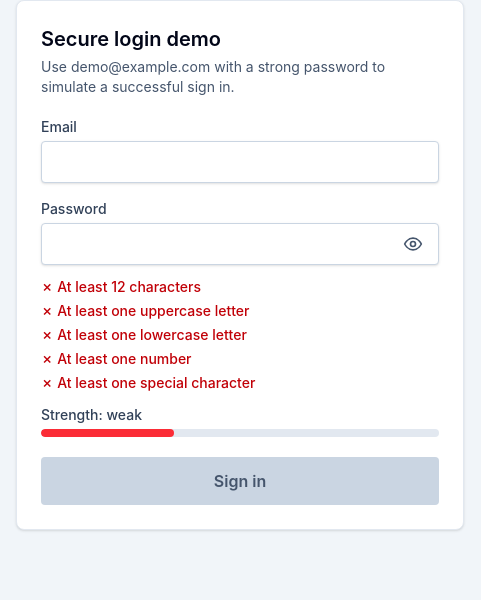
Test case: LoginDemo › shows a success message when signing in with the demo email
Type "demo@example.com" into the field labelled "Email" at [240, 162], box [41,141,439,183]
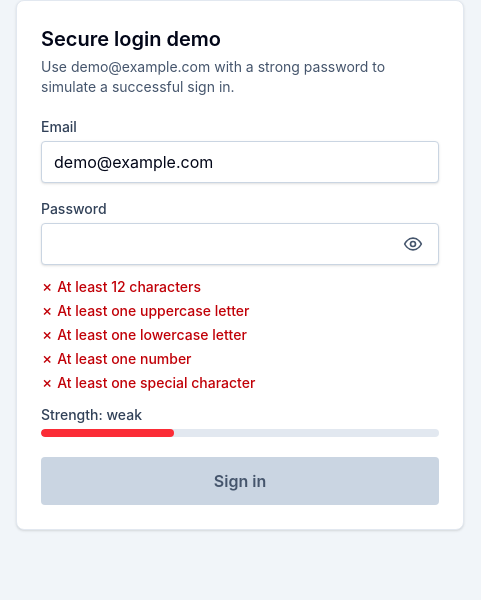
Type "ValidPassword123!" into the password field named "Password" at [240, 244], box [41,223,439,265]
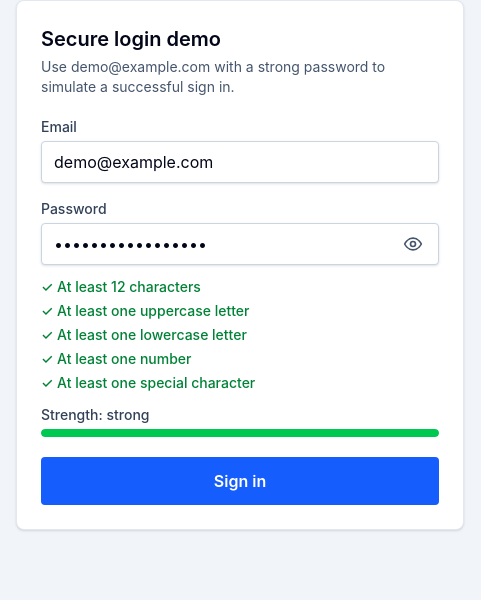
Click the button "Sign in" at [240, 481], box [41,457,439,505]
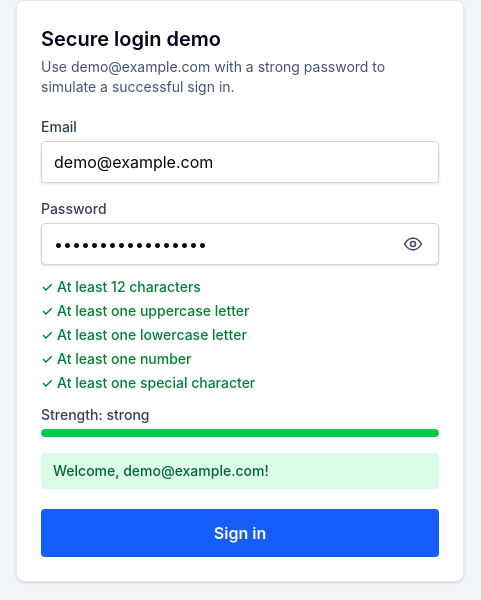
Result: the text "Welcome, demo@example.com!" is shown at [41,453,439,489]
